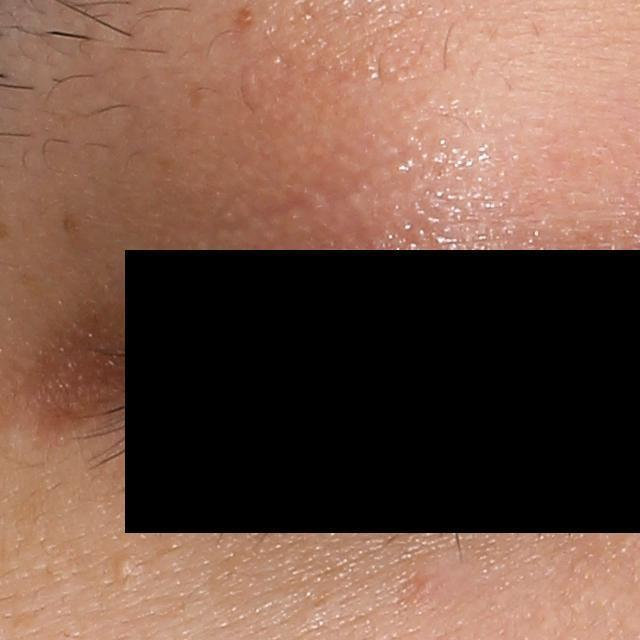comedo: (111, 554, 133, 578)
melasma: (226, 8, 258, 36)
